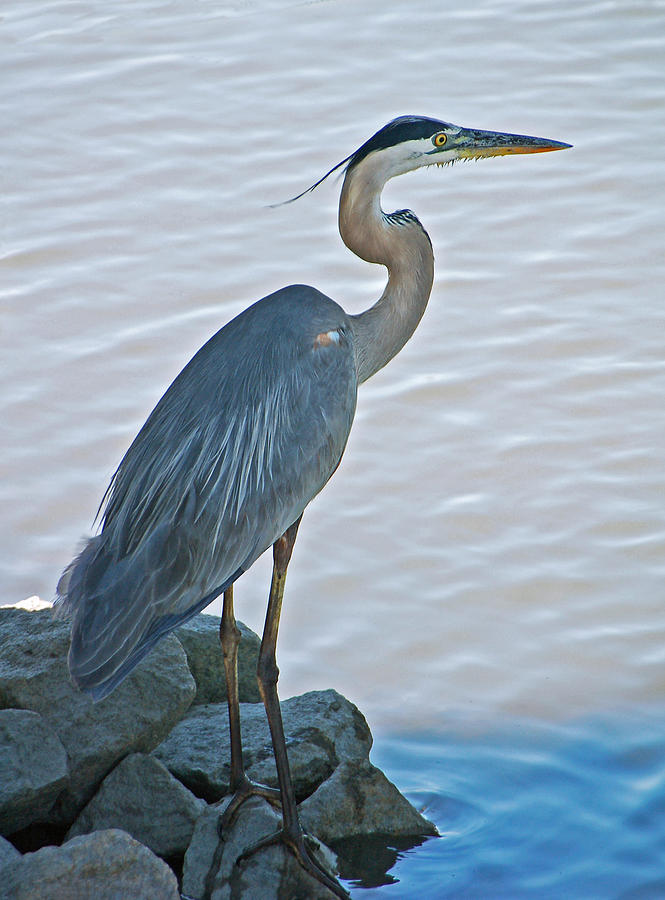heron: (45, 106, 578, 854)
